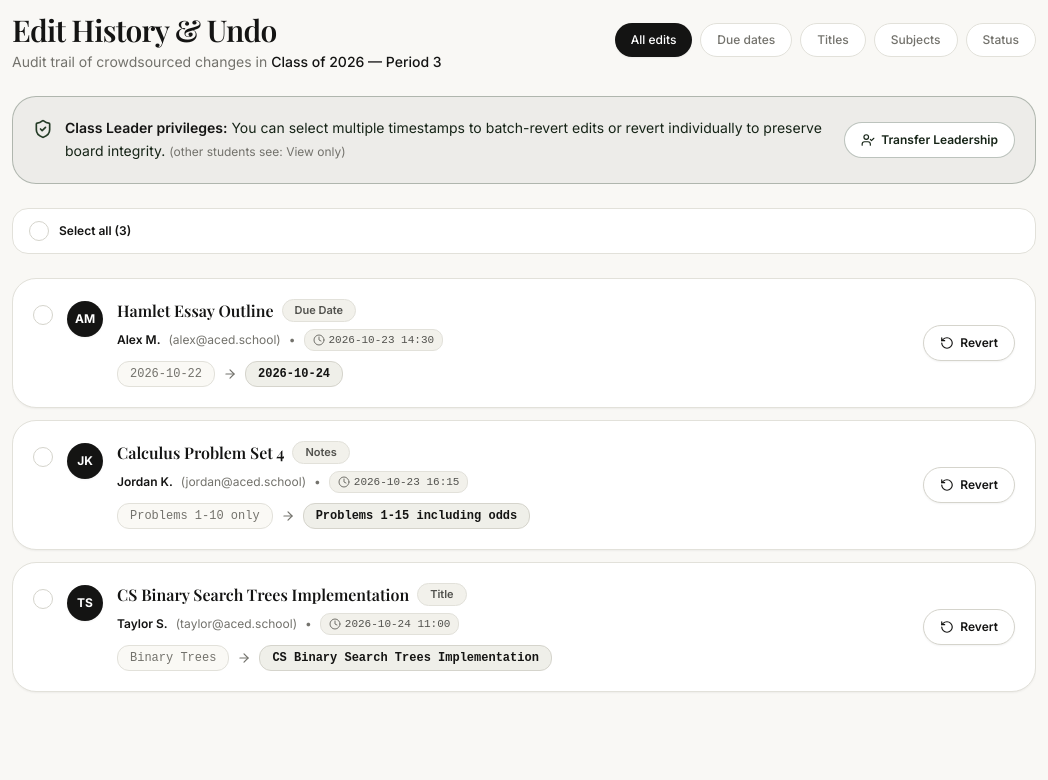
Test: HistoryScreen Component › allows class leader to use select all and clear selection
expect the heading "Calculus Problem Set 4" is shown: met, box [117,440,284,464]
Note: Click select all
Click the checkbox named "select all revertible edits": (80, 230) [29,220,131,240]
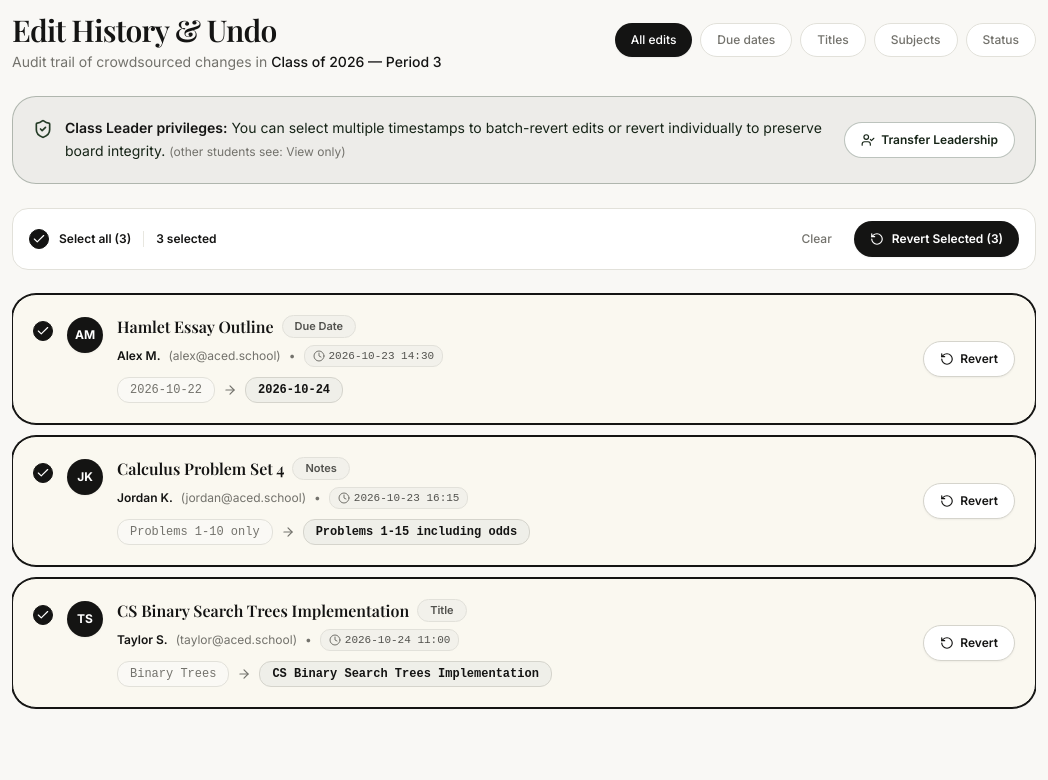
expect the text "3 selected" is shown: met, box [156,230,216,246]
expect the button "Revert Selected (3)" is shown: met, box [854,220,1019,256]
Note: Click clear selection
Click the button "Clear": (817, 238) [787,222,846,256]
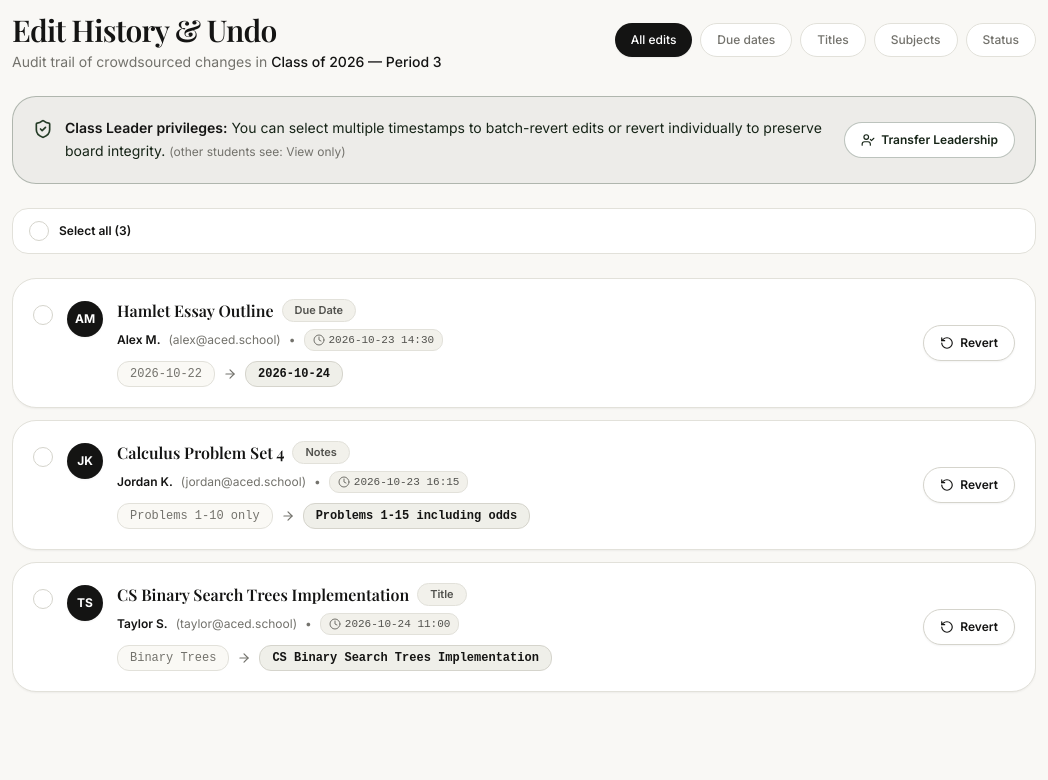
expect the text "3 selected" is gone: met
expect the button "Revert Selected" is gone: met
